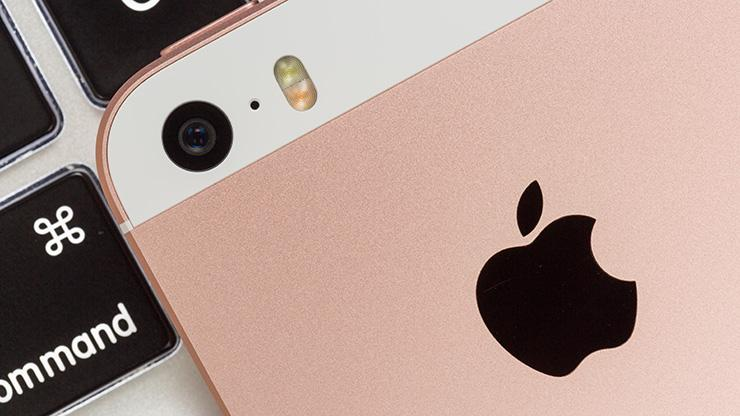apple: (463, 149, 658, 399)
